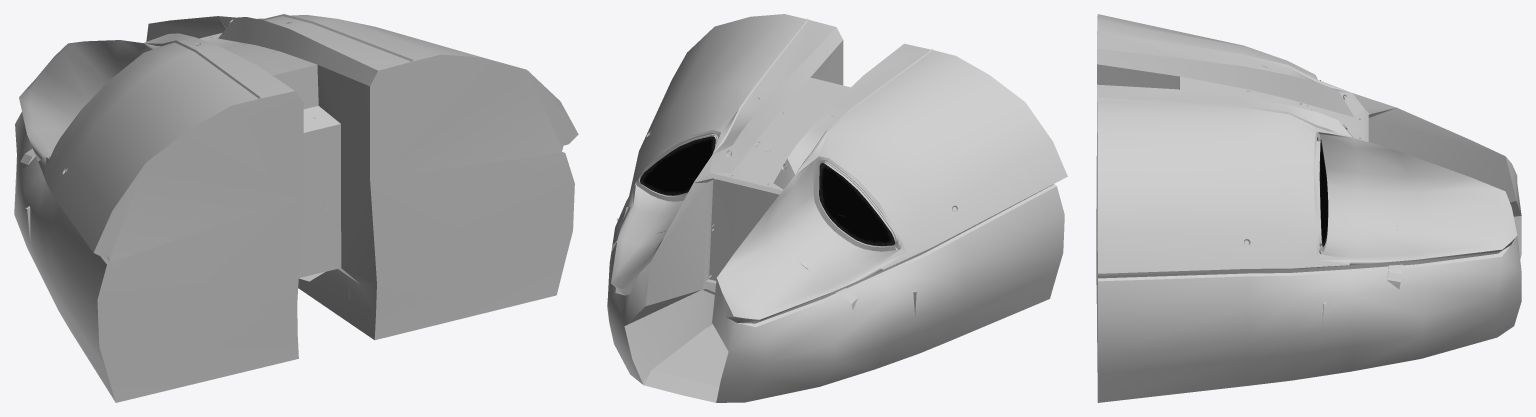
Rendered from Gemini_Int2.FBX.
The picture shows the model from 3 angles, left to right: view 1: azimuth 30°, elevation 25°; view 2: azimuth 150°, elevation 25°; view 3: azimuth 270°, elevation 25°; orthographic projection. The views are drawn at different scales.
Parts seen in each view (by area): view 1: Gemini_Pod_Int; view 2: Gemini_Pod_Int, Windows; view 3: Gemini_Pod_Int, Windows.
Boxes of the visible parts, x1,y1,x2,y2 form: Gemini_Pod_Int: (14, 14, 578, 402); Gemini_Pod_Int: (607, 14, 1067, 402); Windows: (640, 136, 894, 245); Gemini_Pod_Int: (1096, 14, 1521, 402); Windows: (1319, 80, 1328, 246).
Size of the model in its own units: 158 by 84.38 by 134.
